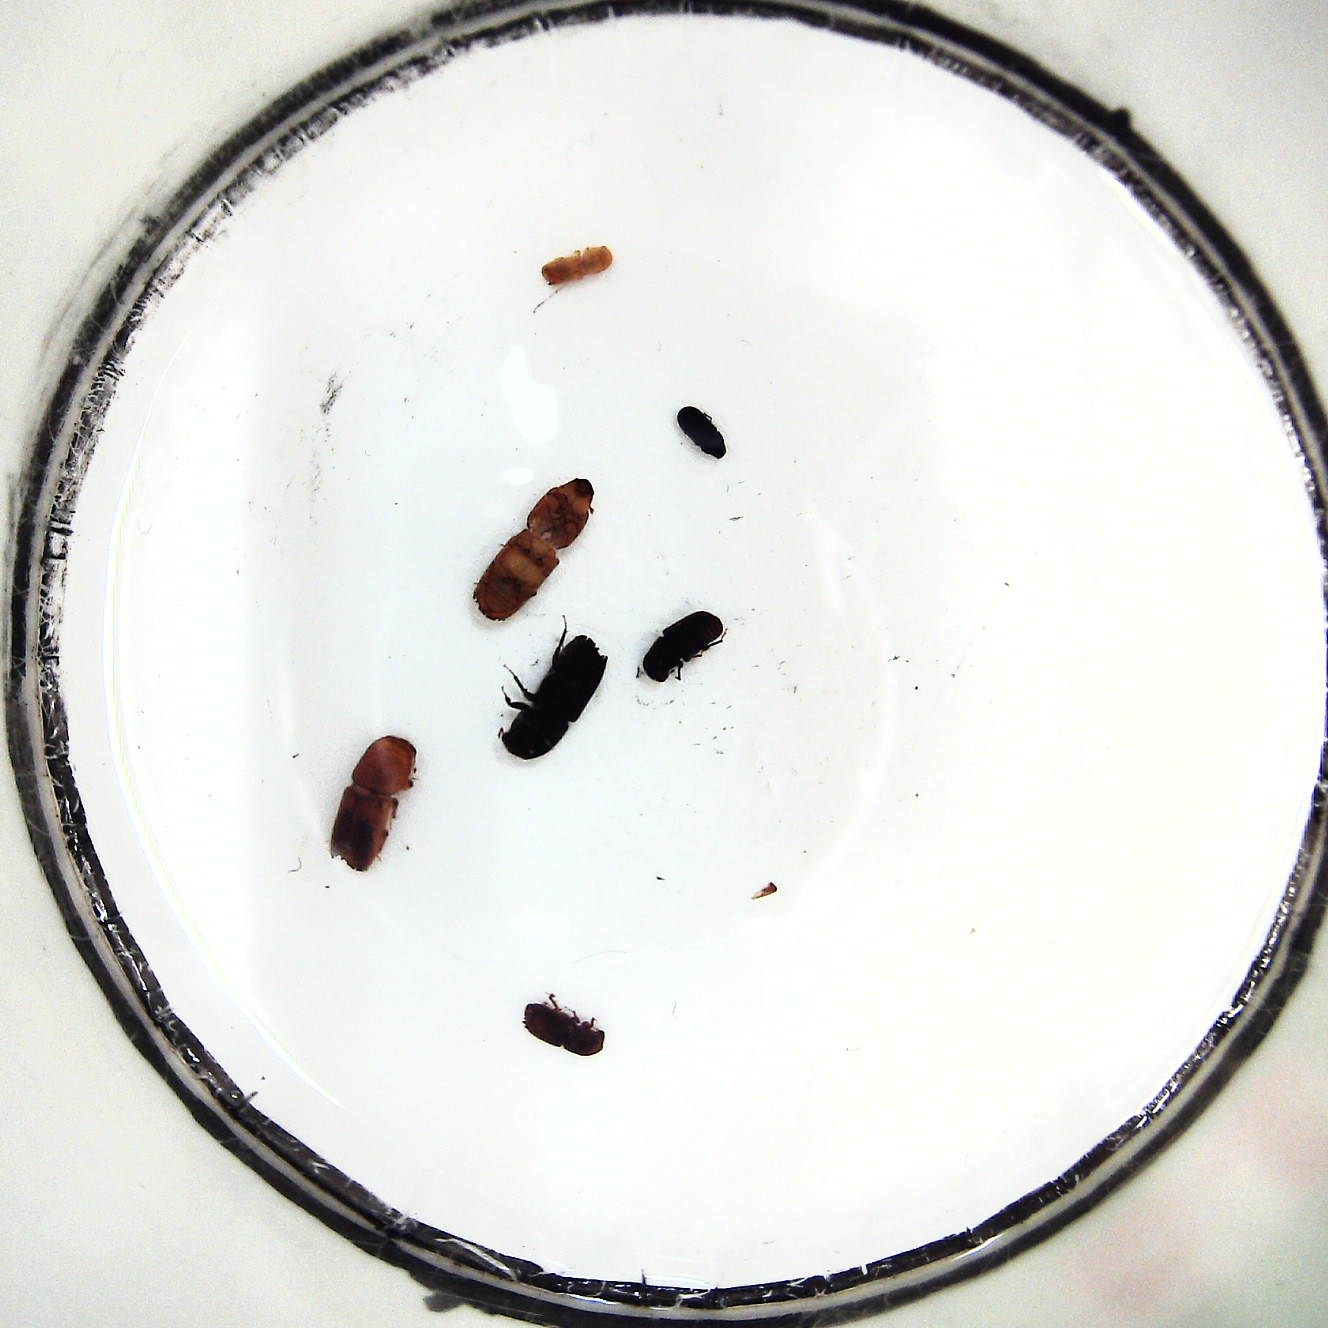Boerner: (468, 476, 597, 625), (494, 628, 610, 759), (323, 737, 417, 876)
Linnaeus: (522, 994, 607, 1059)
acuminatus: (541, 244, 613, 289)
armandi: (641, 607, 724, 682)
coleoptera: (675, 406, 728, 465)
